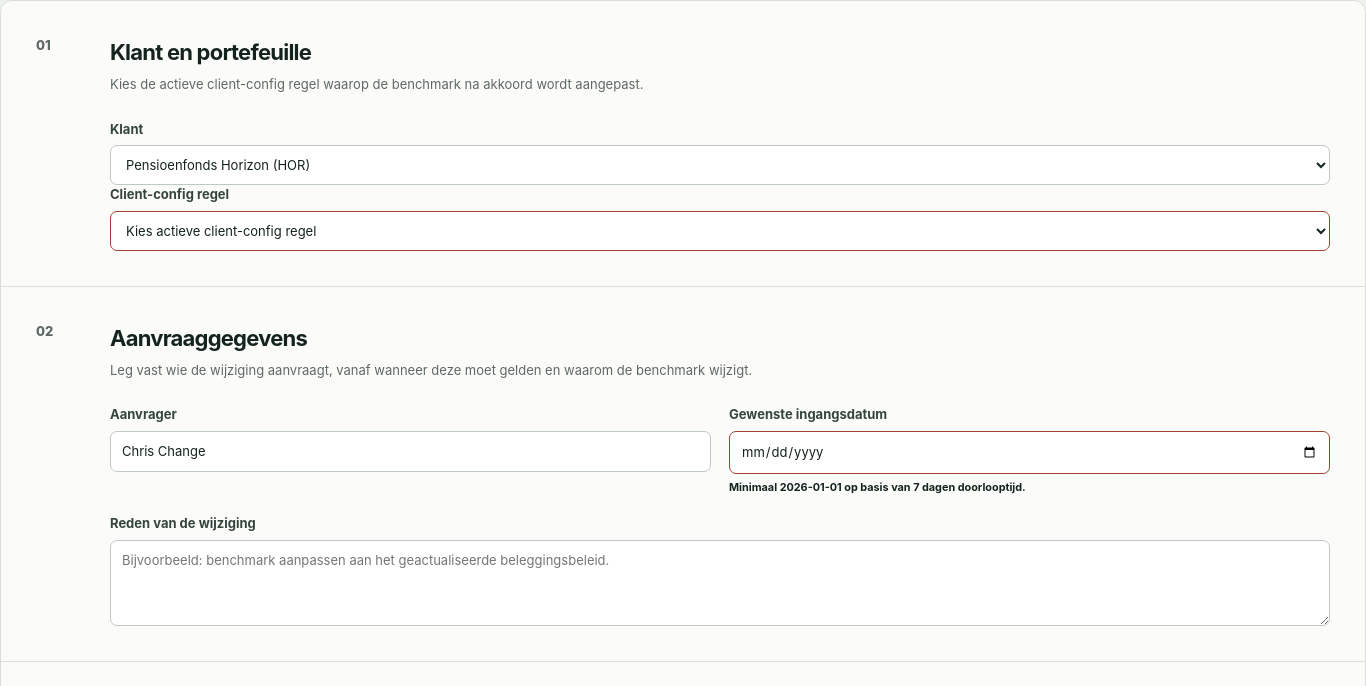
BenchmarkChangeForm — invalid client error surfacing › keeps non-client issues in the general error block only
Select "HOR*EQACX*ROB · HORRP · Equities · Active Global · Robeco" in the dropdown labelled "Client-config regel" at (720, 230), box [110, 210, 1330, 250]
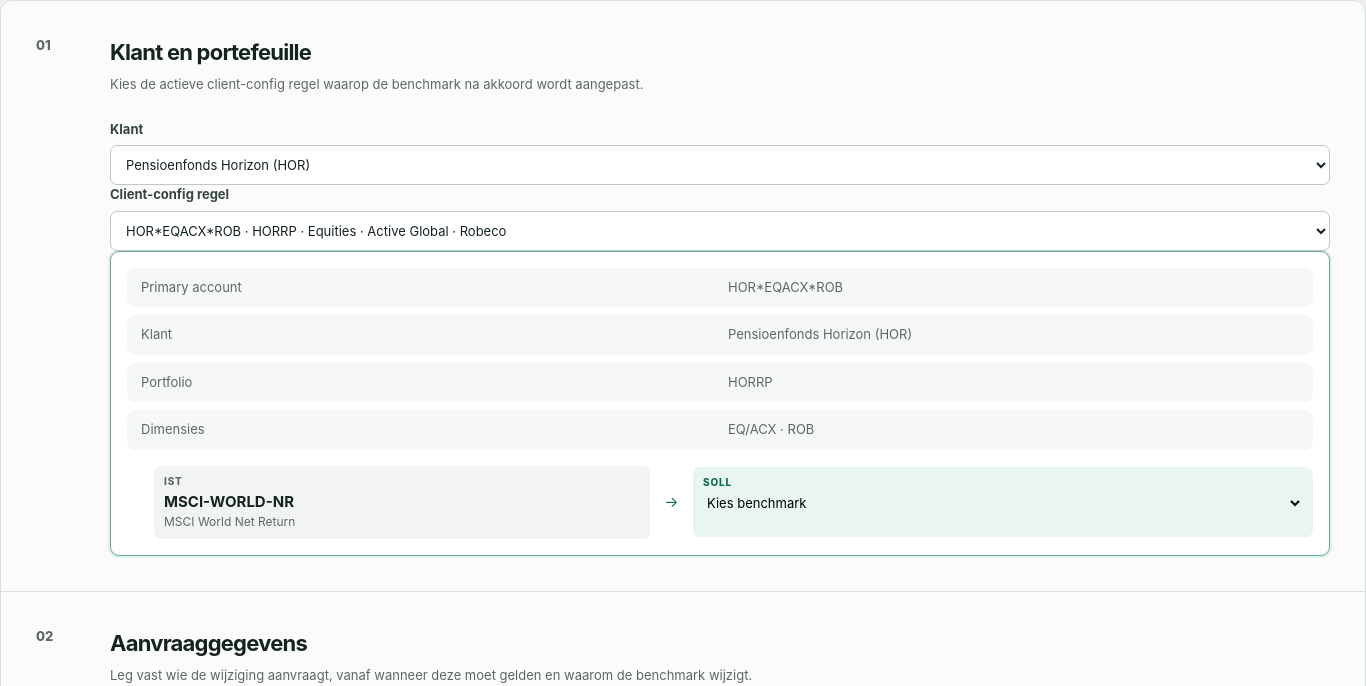
Select "MSCI-ACWI-NR — MSCI ACWI Net Return" in the dropdown named "Kies SOLL benchmark" at (1003, 503), box [703, 494, 1303, 512]
(page scrolled)
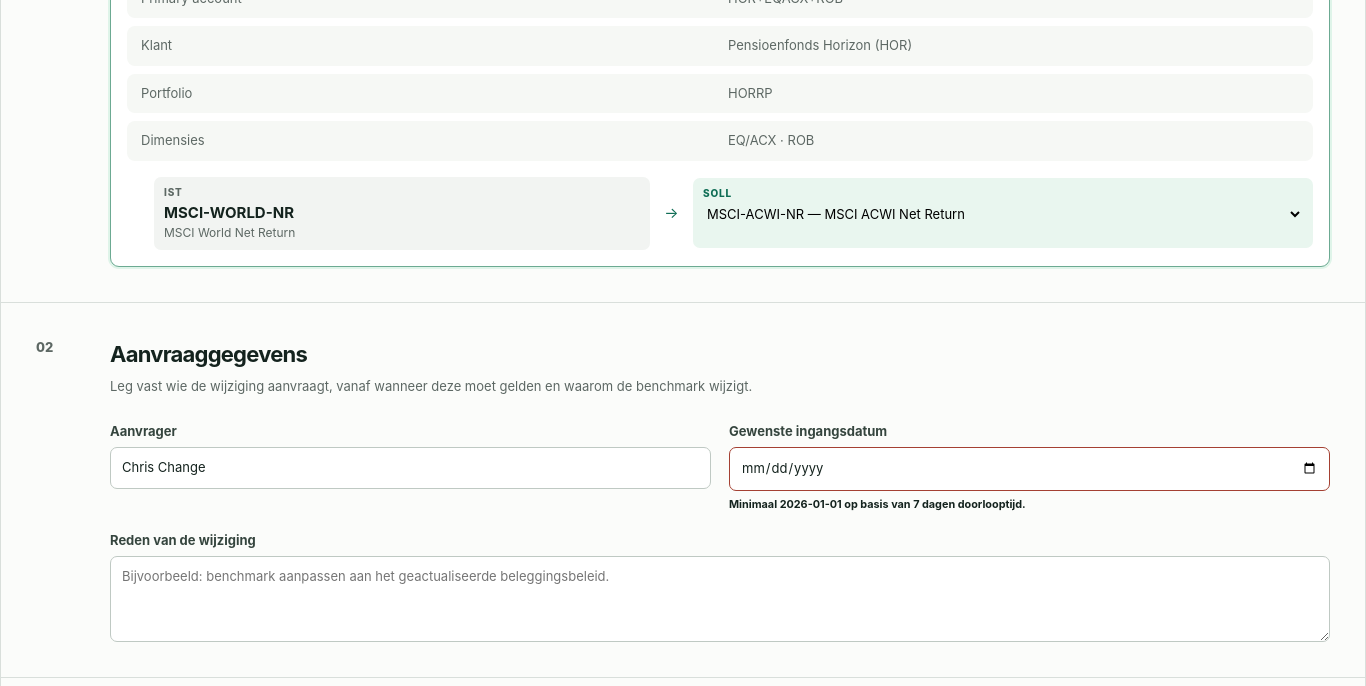
Submit the form named "Benchmarkwissel aanvragen"
(page scrolled)
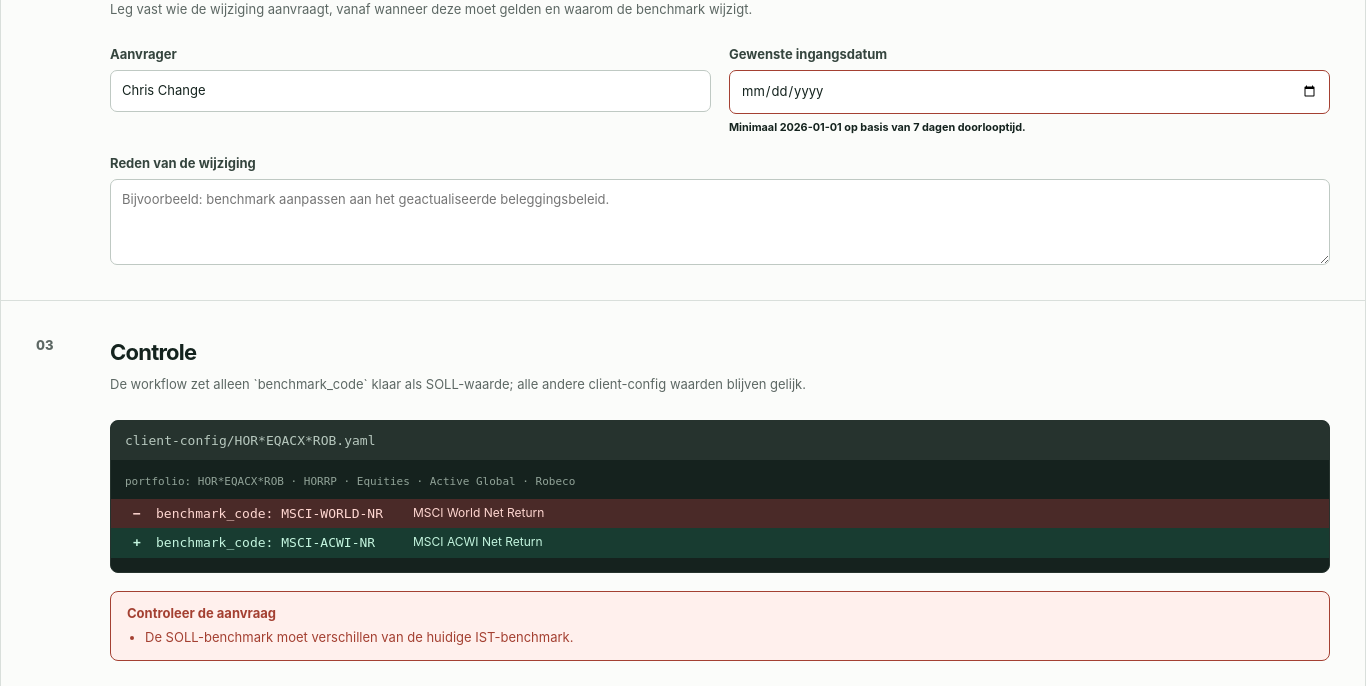
expect the text "Controleer de aanvraag" is shown: met, box [127, 605, 276, 621]
expect the list item "De SOLL-benchmark moet verschillen van de huidige IST-benchmark." is shown: met, box [145, 629, 574, 645]
